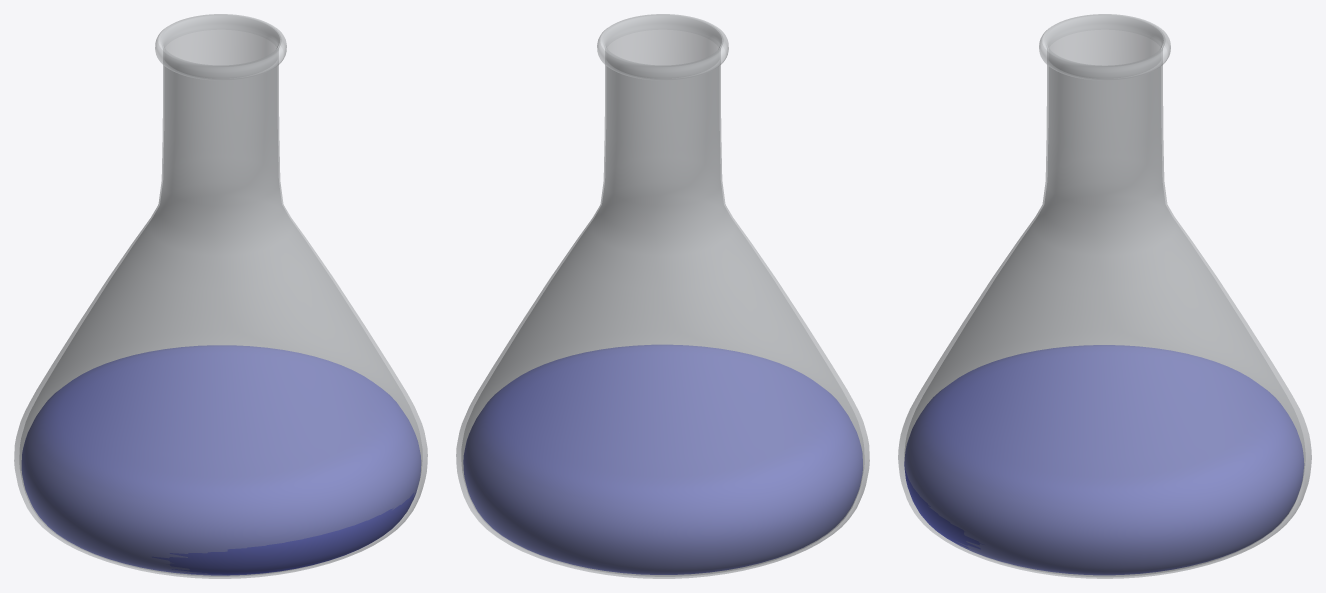
Rendered from Колба_Синий.fbx.
3 renders of one model, left to right at view 1: azimuth 30°, elevation 25°; view 2: azimuth 150°, elevation 25°; view 3: azimuth 270°, elevation 25°, orthographic.
Visible parts, largest first — view 1: Cylinder.001, Cylinder.002; view 2: Cylinder.001, Cylinder.002; view 3: Cylinder.001, Cylinder.002.
Boxes of the visible parts, x1,y1,x2,y2 form: Cylinder.001: (14, 14, 427, 578); Cylinder.002: (22, 345, 420, 575); Cylinder.001: (456, 14, 869, 578); Cylinder.002: (463, 345, 862, 574); Cylinder.001: (898, 14, 1311, 578); Cylinder.002: (904, 345, 1303, 574).
Bounding box in the file's own units: 92.6 × 118 × 92.6.
